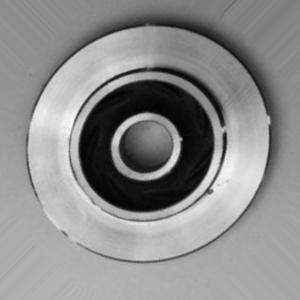defect: (191, 176, 243, 203)
